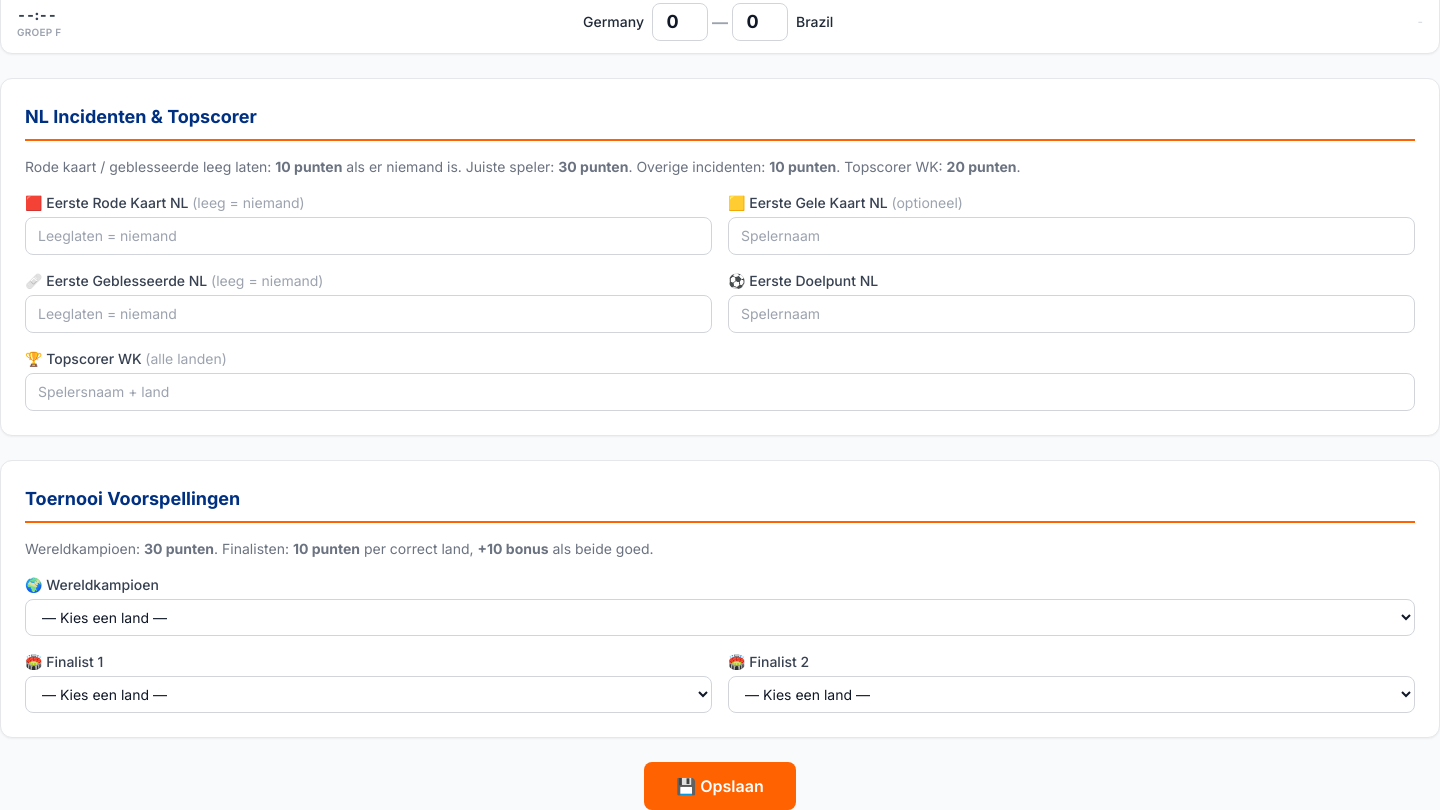
Test case: WkPouleForm › shows error when match upsert fails
(page scrolled)
What coordinates should you click on to do the following:
click the button "💾 Opslaan"
I would click on:
 (720, 786)
Its box is [644,762,796,809].
(page scrolled)
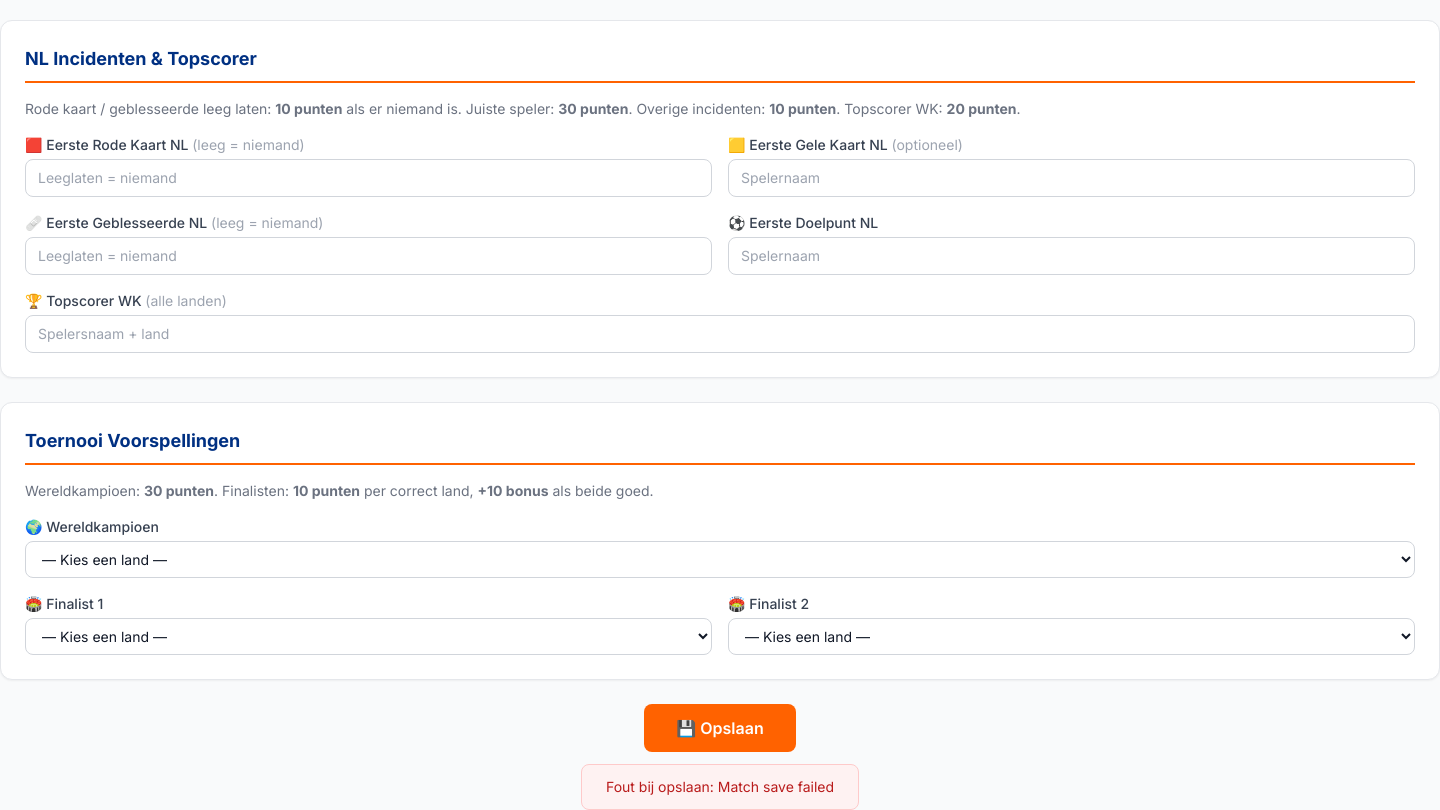
Expected: the text "Fout bij opslaan: Match save failed" is shown, [581,764,859,809]
